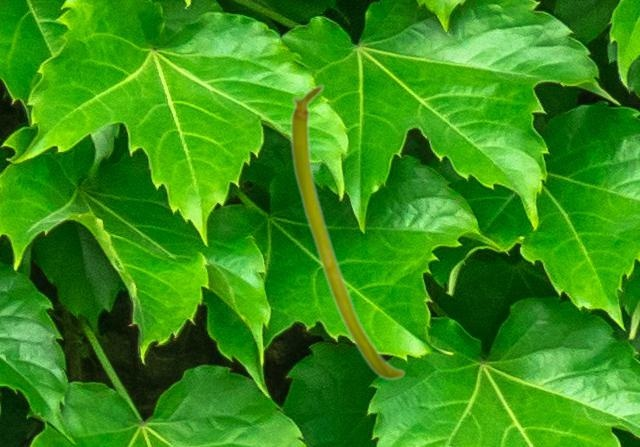french_bean: (289, 83, 405, 380)
